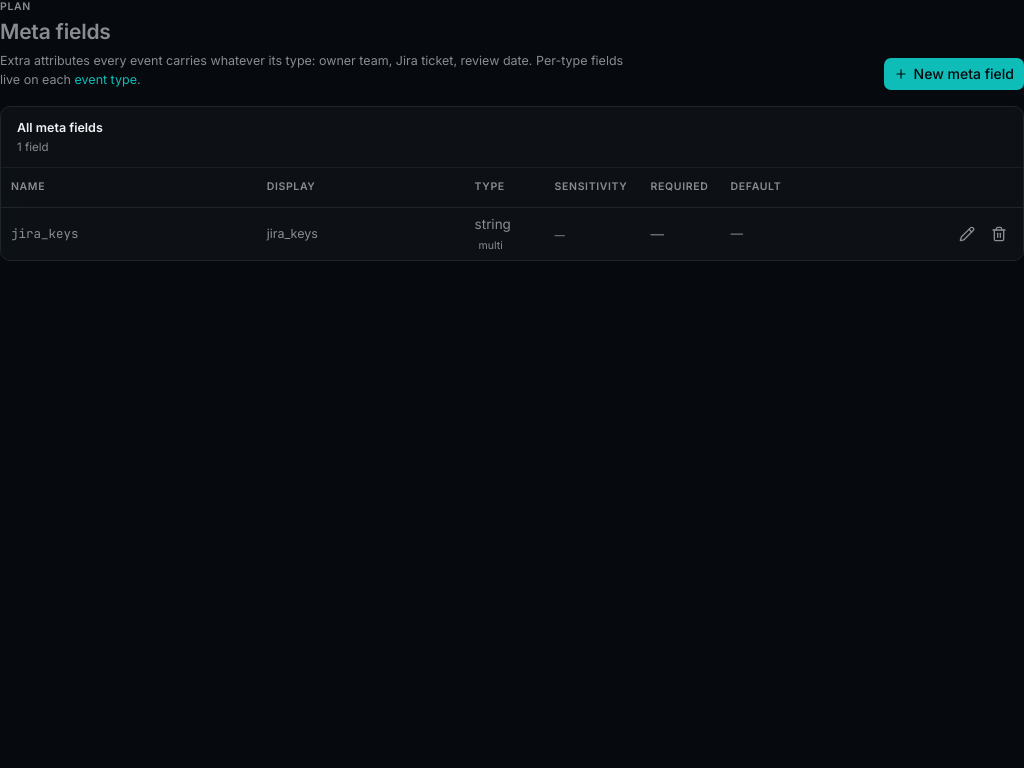
Test: MetaFieldsTab — Allow multiple › warns that stored values stay when the flag is turned off
The image size is (1024, 768).
Click the button named "Edit jira_keys" at [967, 234], box [953,220,981,248]
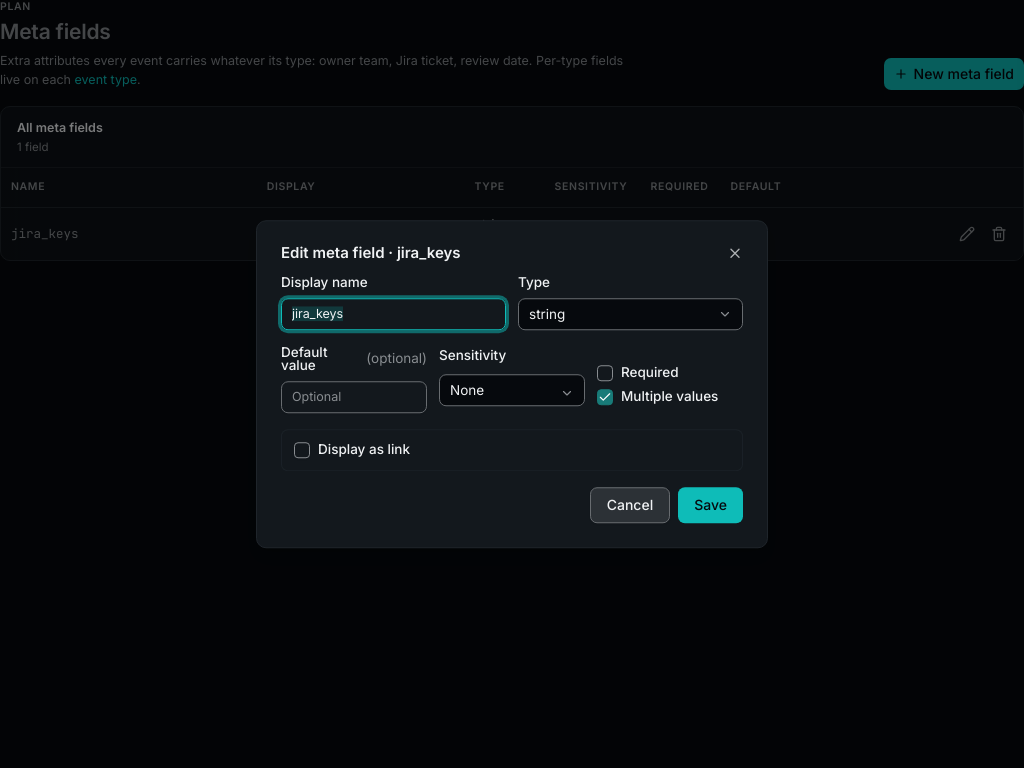
expect the checkbox named "Multiple values" next to "Multiple values" is checked: met
Click the checkbox named "Multiple values" next to "Multiple values" at [605, 397], box [597,389,613,405]
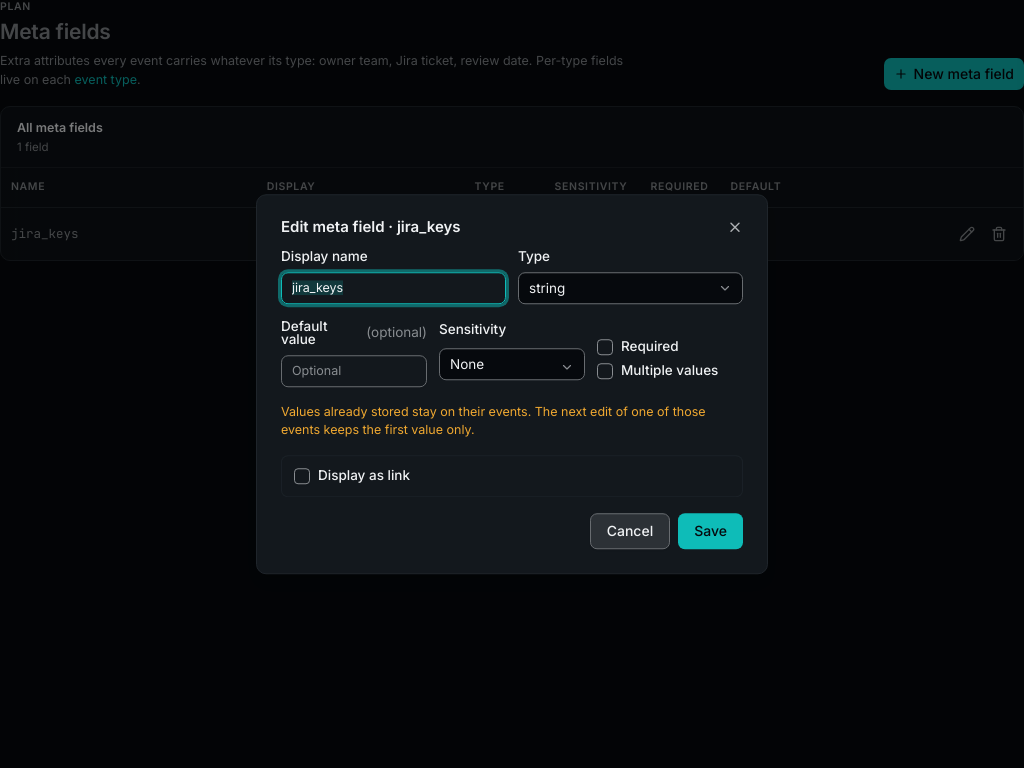
expect the text "keeps the first value only" is shown: met, box [281,404,706,437]
